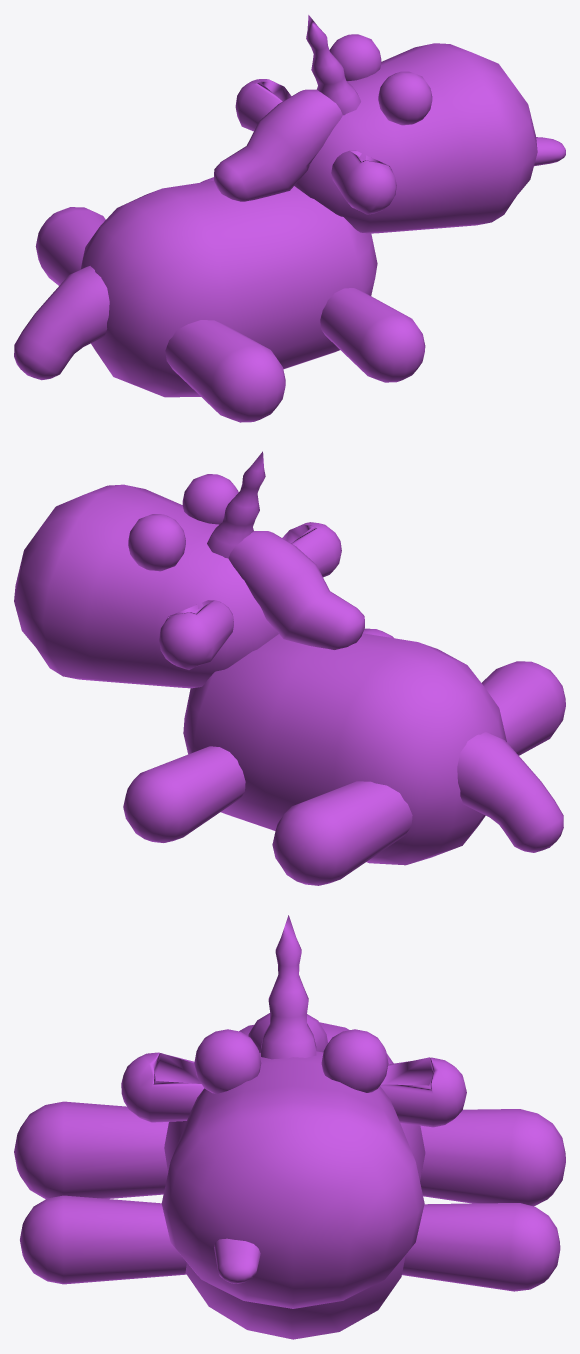
Rendered from unicornio.FBX.
The picture shows the model from 3 angles, top to bottom: view 1: azimuth 30°, elevation 25°; view 2: azimuth 150°, elevation 25°; view 3: azimuth 270°, elevation 25°; orthographic projection. The views are drawn at different scales.
Parts seen in each view (by area): view 1: Box007; view 2: Box007; view 3: Box007.
Boxes of the visible parts, box(x1,y1,x2,y2) form: Box007: box(14, 15, 565, 422); Box007: box(14, 451, 565, 885); Box007: box(14, 915, 565, 1339).
Size of the model in its own units: 58.41 by 37.02 by 43.03.
